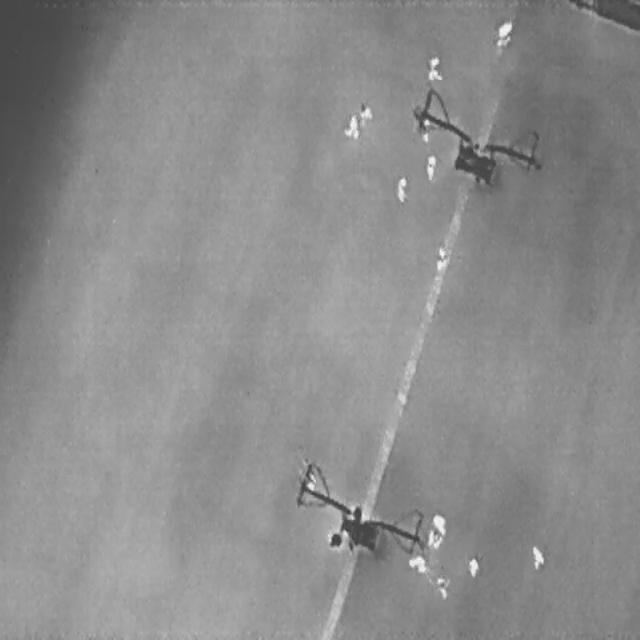Person: (428, 508, 451, 538), (494, 16, 513, 48), (406, 552, 426, 572), (343, 112, 358, 138), (394, 174, 408, 201), (530, 542, 544, 568), (428, 54, 441, 81), (423, 154, 436, 180), (358, 104, 372, 128), (433, 578, 448, 600), (435, 245, 447, 269), (303, 470, 316, 492), (427, 528, 441, 548), (467, 554, 478, 578), (420, 116, 429, 142)
